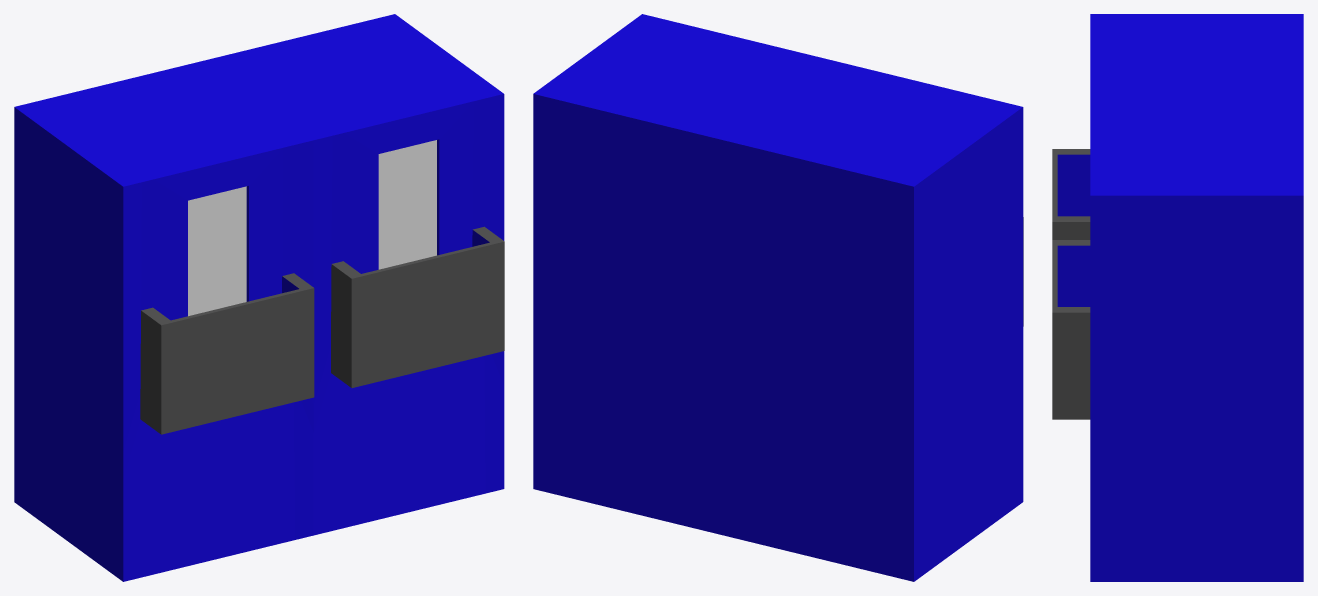
File: newbalcony.gltf
3 views of the same model, side by side, from view 1: azimuth 30°, elevation 25°; view 2: azimuth 150°, elevation 25°; view 3: azimuth 270°, elevation 25° (orthographic). The views are drawn at different scales.
Parts seen in each view (by area): view 1: B1; view 2: B1; view 3: B1.
Boxes of the visible parts, box(x1,y1,x2,y2) form: B1: box(14, 14, 504, 581); B1: box(533, 14, 1023, 581); B1: box(1052, 14, 1303, 581).
Bounding box in the file's own units: 4.02 × 3.99 × 2.35.
